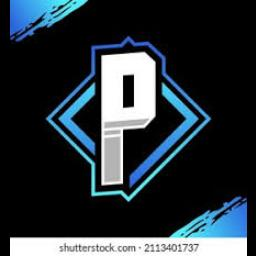p: (84, 33, 164, 205)
